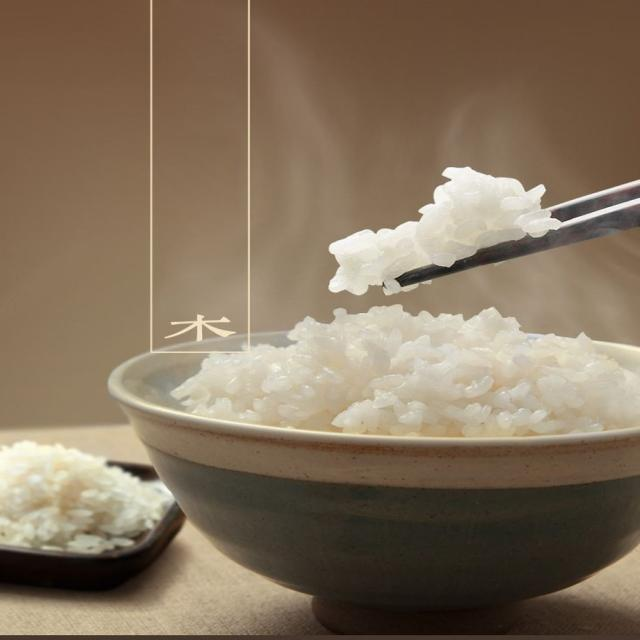Chicken -Chicken Inasal-: (254, 326, 625, 466), (308, 178, 517, 284), (2, 428, 132, 549)
